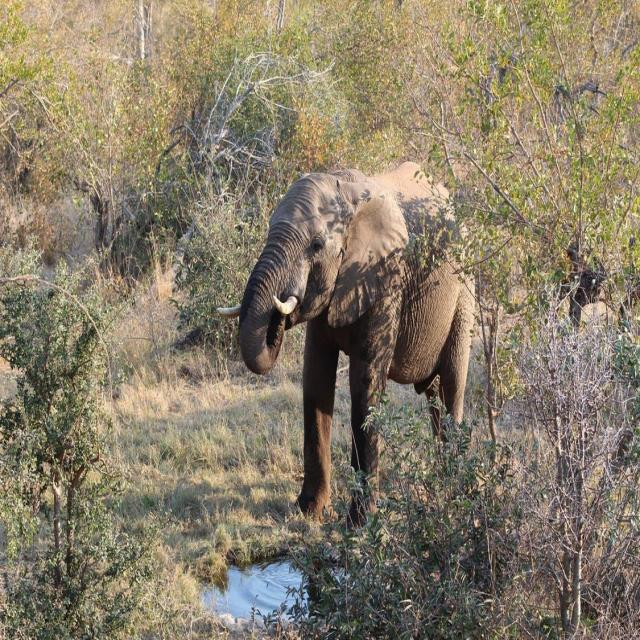Elephant: (218, 157, 494, 532)
